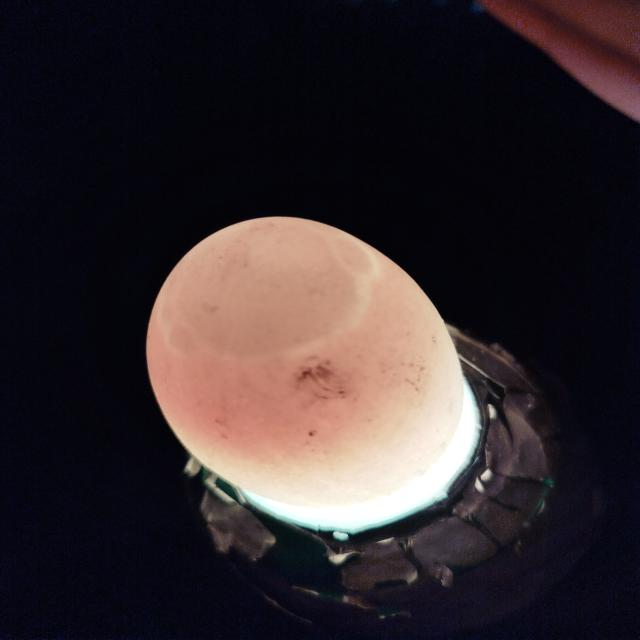Camara de Ar: (158, 216, 379, 359)
